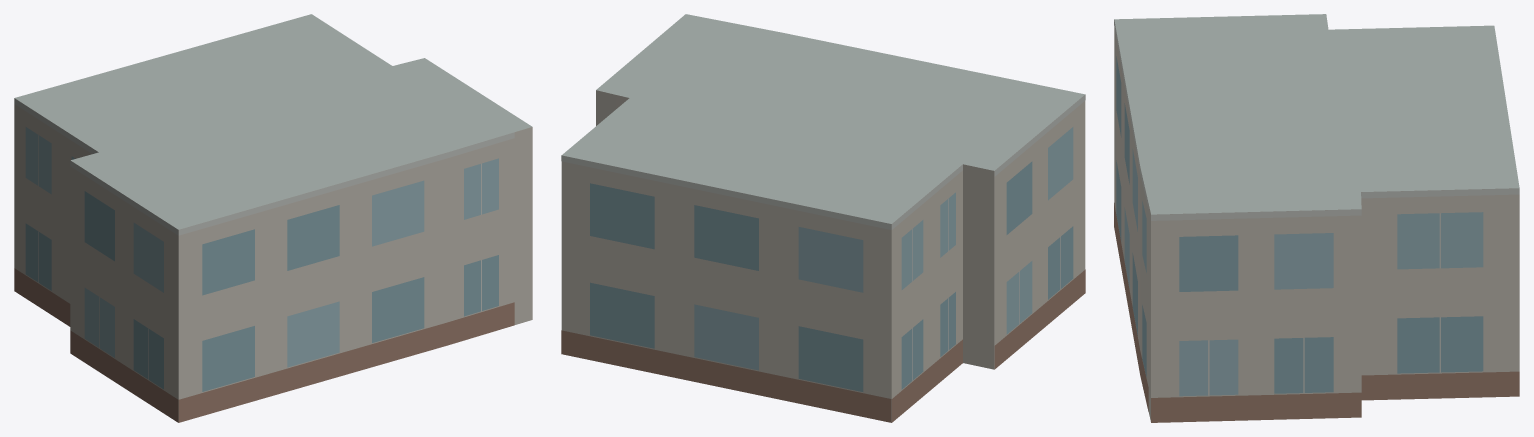
Rendered from survey-upis-32726659.glb.
3 renders of one model, left to right at view 1: azimuth 30°, elevation 25°; view 2: azimuth 150°, elevation 25°; view 3: azimuth 270°, elevation 25°, orthographic. The views are drawn at different scales.
Parts seen in each view (by area): view 1: survey-upis-32726659.tmp; view 2: survey-upis-32726659.tmp; view 3: survey-upis-32726659.tmp.
Part boxes in pixels (<box>): survey-upis-32726659.tmp: <box>14,14,532,422</box>; survey-upis-32726659.tmp: <box>561,14,1085,422</box>; survey-upis-32726659.tmp: <box>1114,14,1519,422</box>.
Size of the model in its own units: 16.53 by 8 by 14.12.
